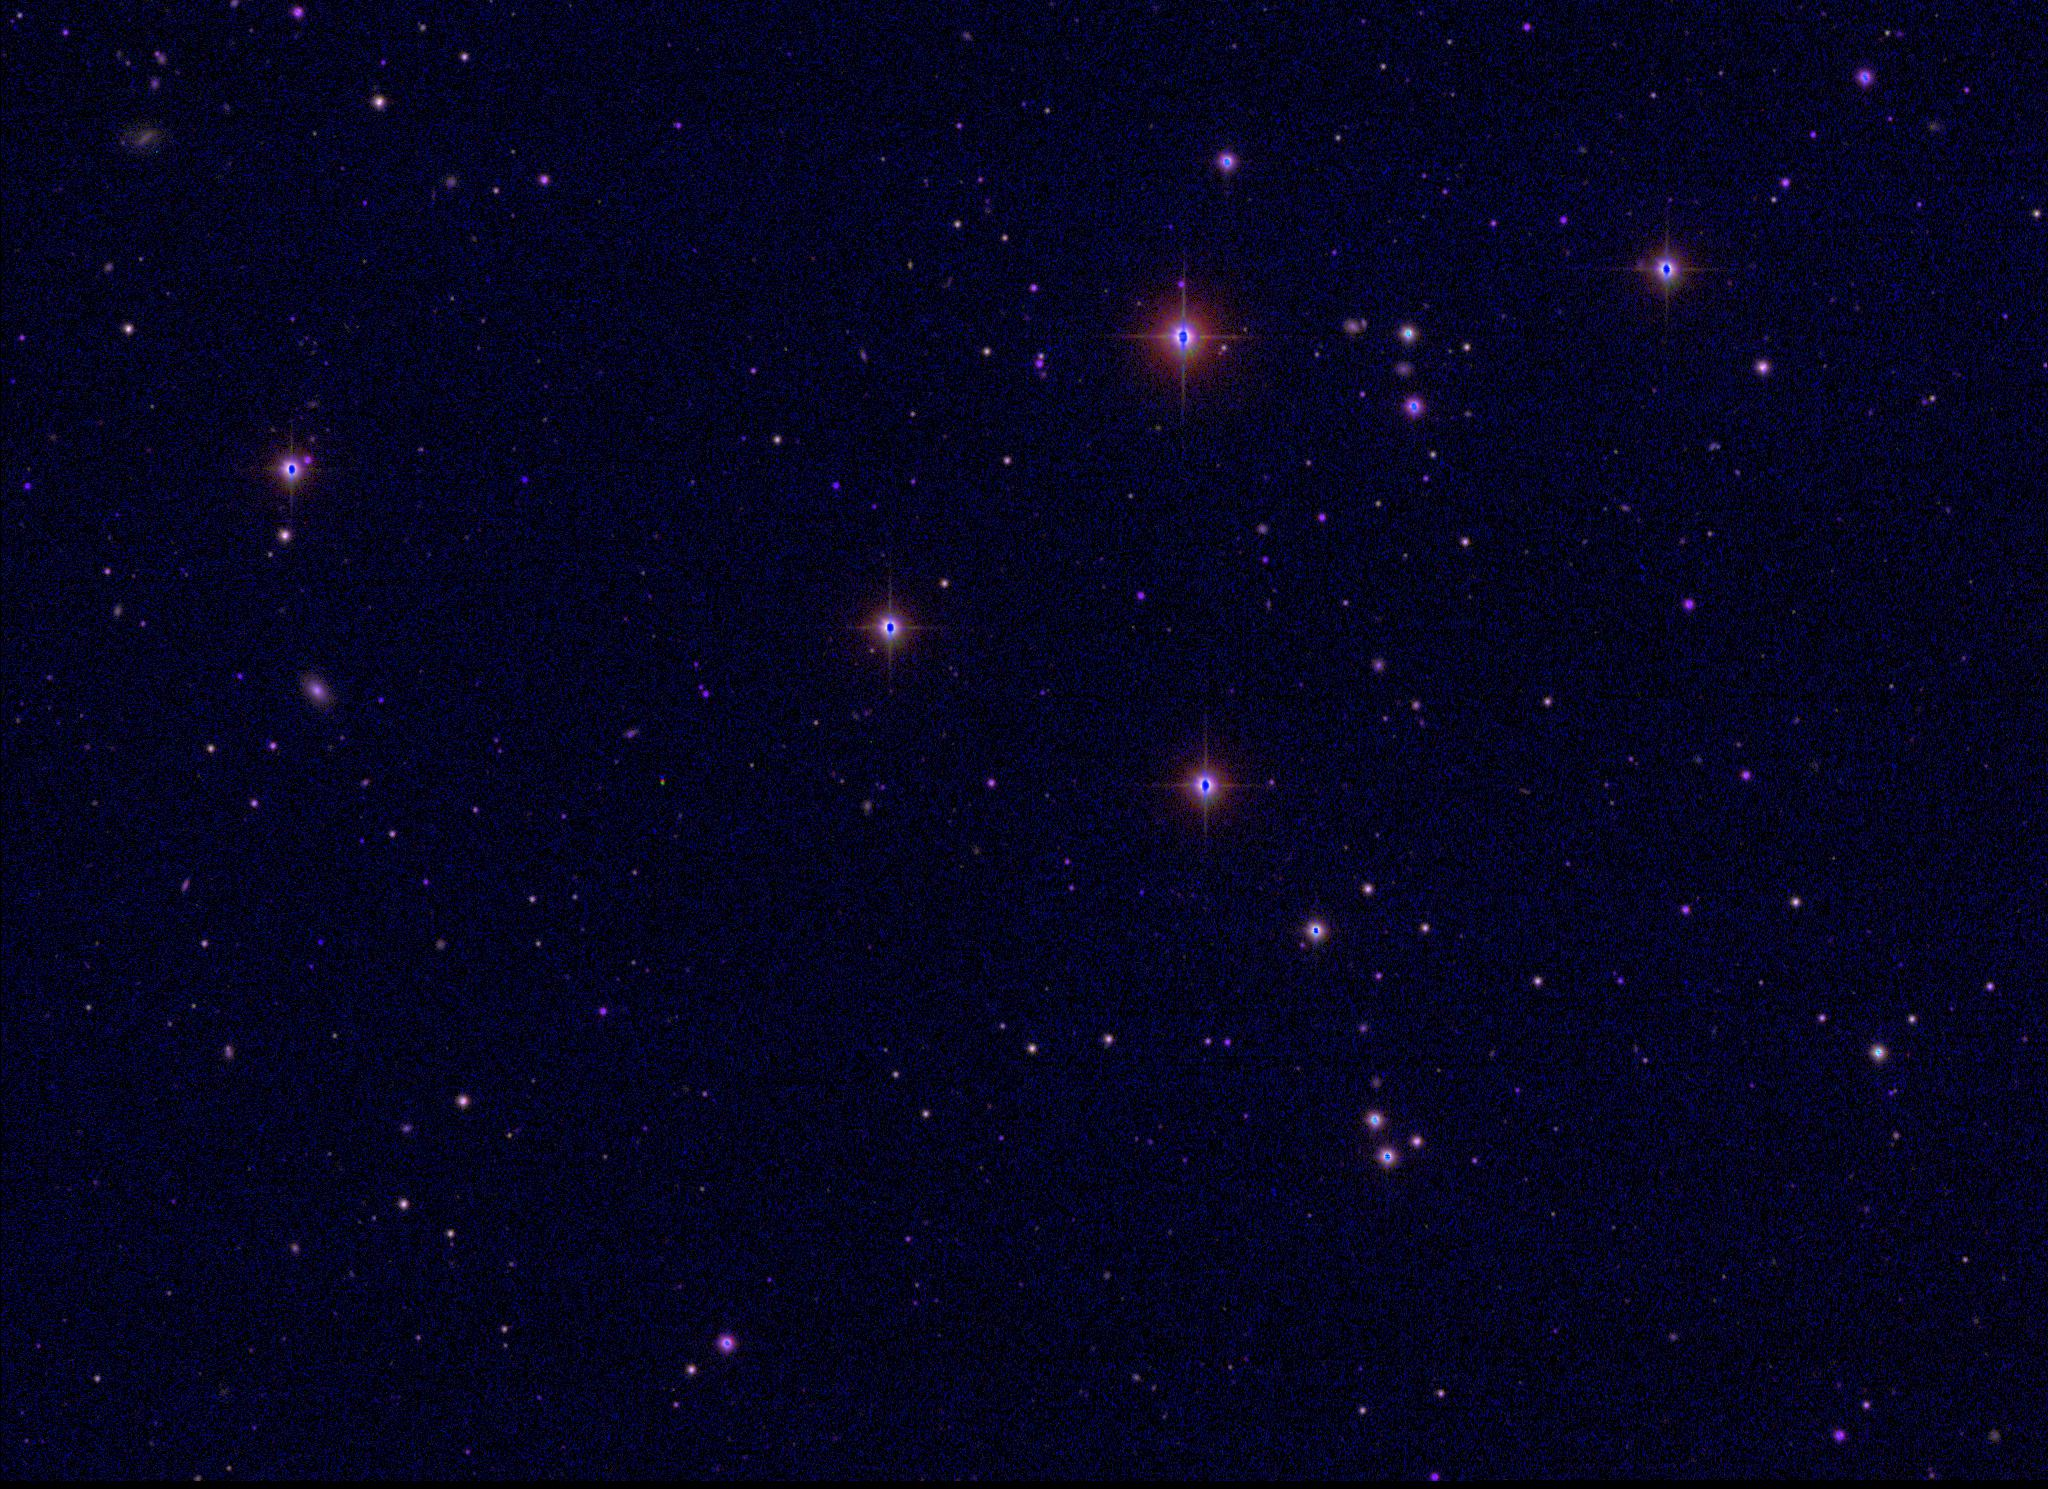L: (313, 935, 328, 950)
